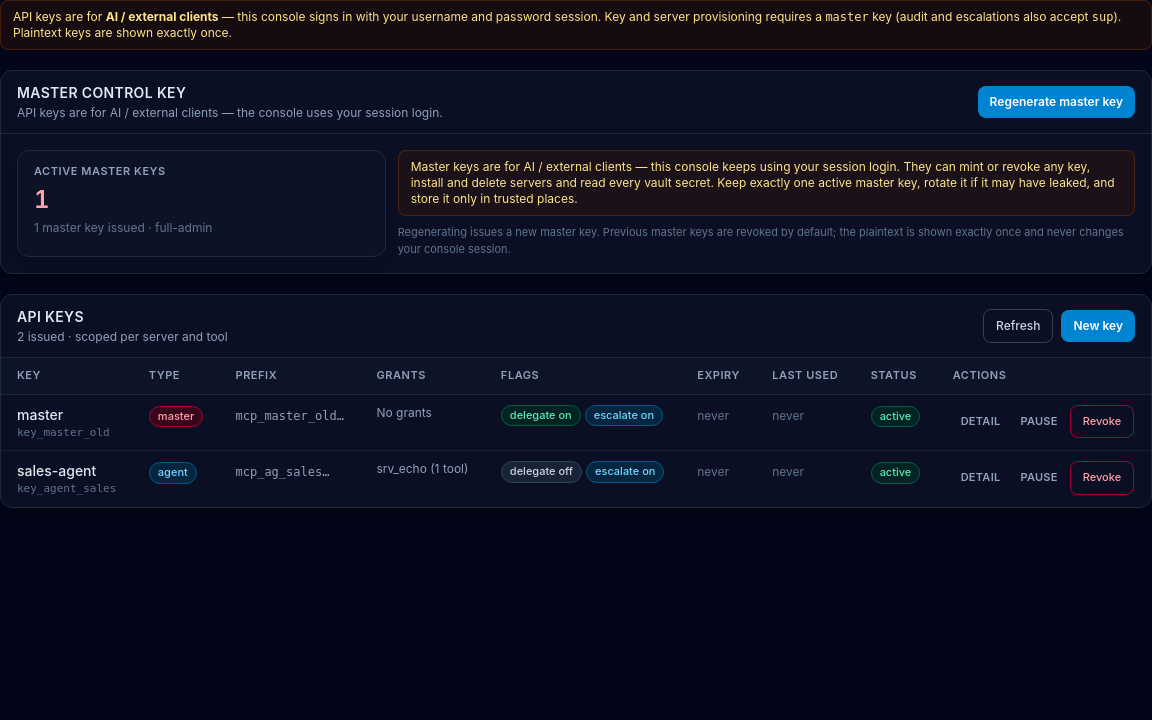
Test: RbacPage — master control key › regenerates, adopts the new key, reveals it once and copies it
Check: the button "sales-agent" is shown, box [17, 461, 96, 481]
What coordinates should you click on to do the following:
click the button "Regenerate master key"
I would click on:
 (1056, 102)
Its box is [978, 86, 1135, 118].
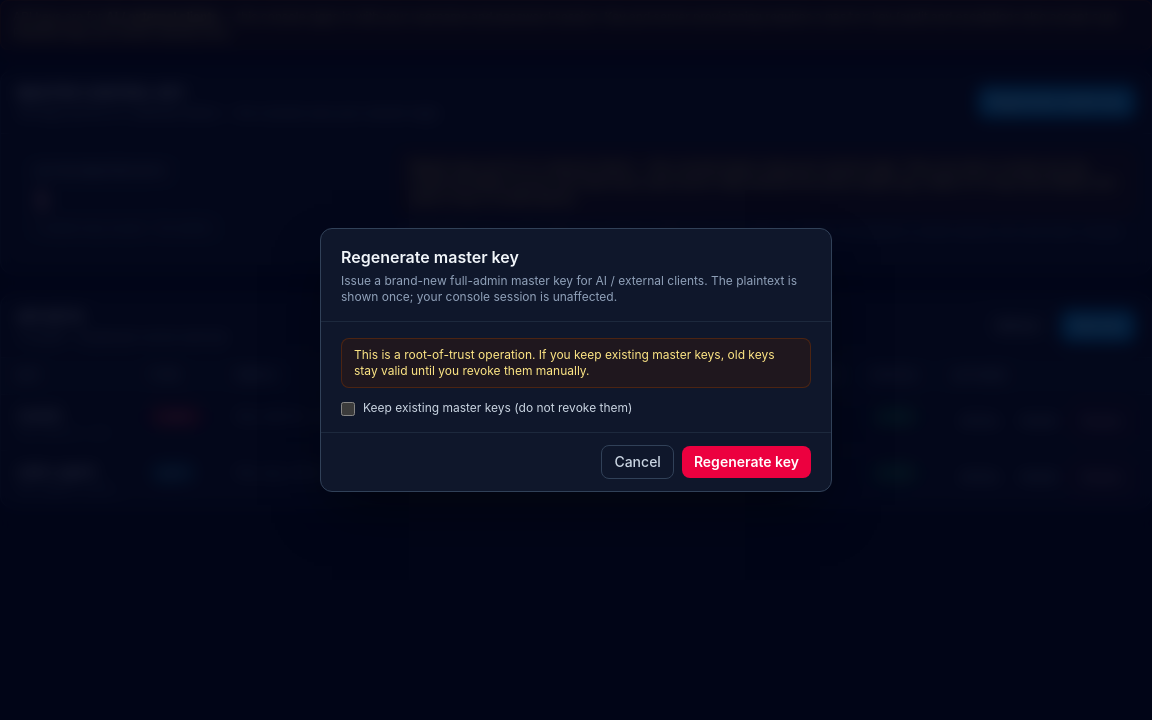
Check: the checkbox labelled "Keep existing master keys (do not revoke them)" is not checked, box [341, 402, 355, 416]
What coordinates should you click on to do the following:
click the button "Regenerate key"
I would click on:
 (746, 462)
Its box is [682, 446, 811, 478].
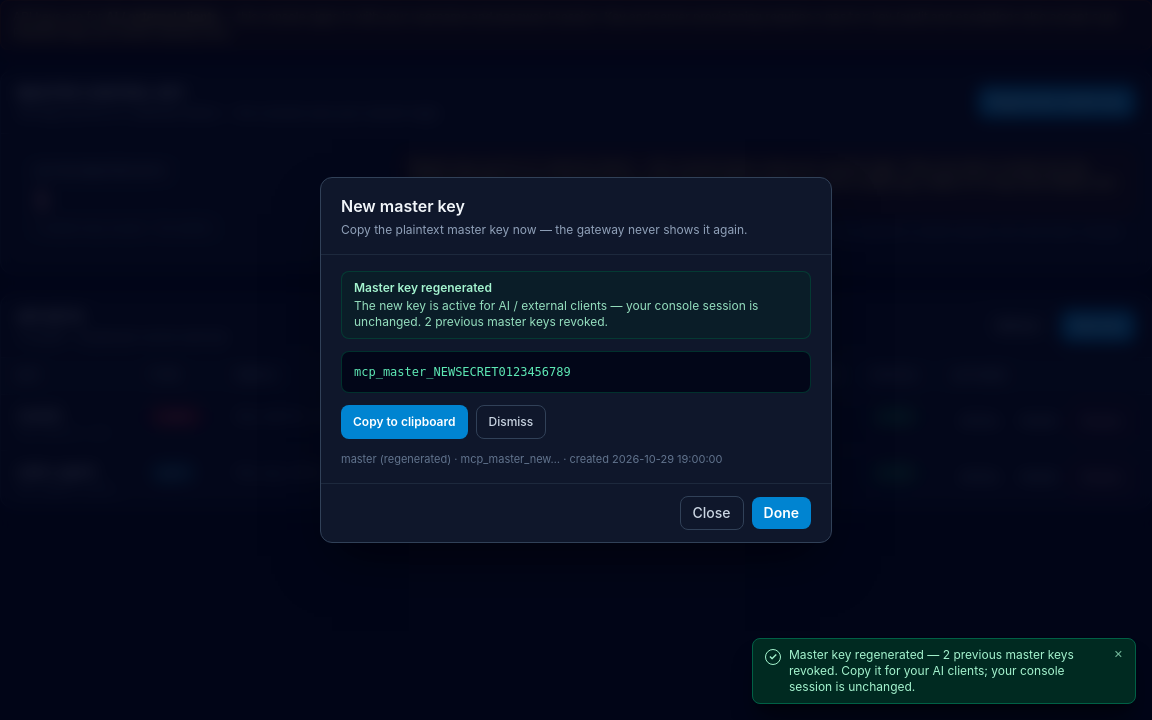
Check: the text "mcp_master_NEWSECRET0123456789" is shown, box [341, 351, 811, 393]
Check: the text "console session is unchanged" is shown, box [354, 298, 758, 329]
Check: the text "2 previous master keys revoked" is shown, box [354, 298, 798, 330]
What coordinates should you click on to do the following:
click the button "Copy to clipboard"
I would click on:
 (404, 422)
Its box is [341, 405, 468, 439].
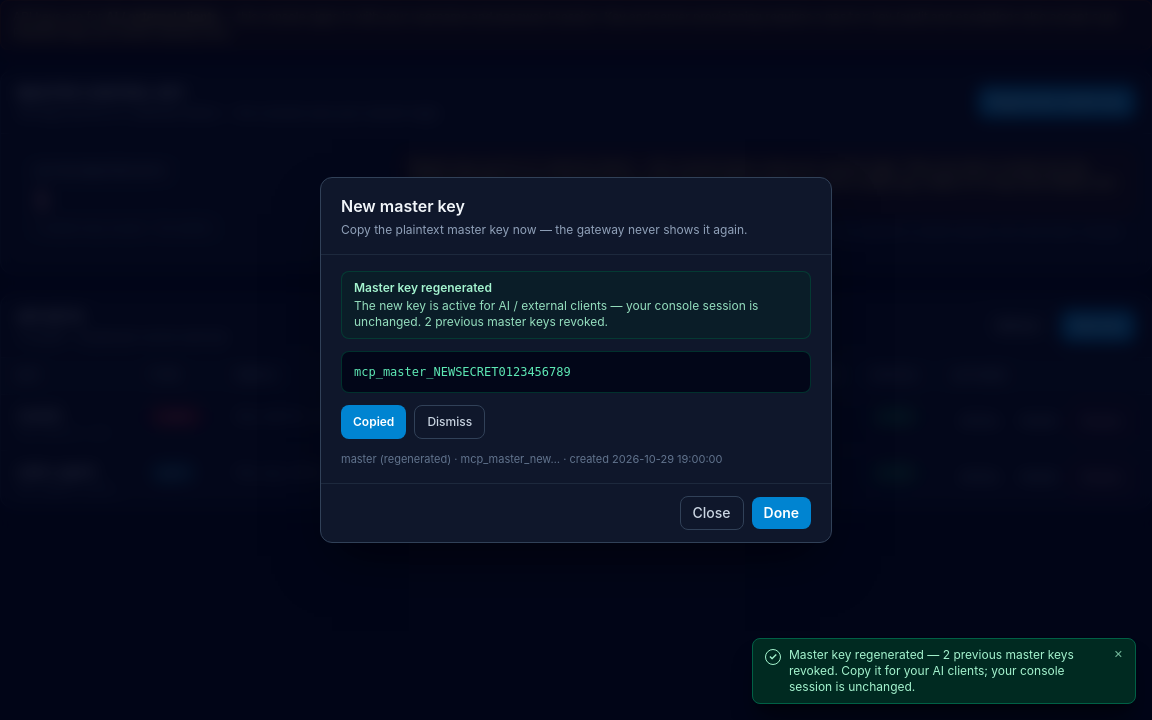
Check: the button "Copied" is shown, box [341, 405, 406, 439]
What coordinates should you click on to do the following:
click the button "Dismiss"
I would click on:
 (450, 422)
Its box is [414, 405, 485, 439].
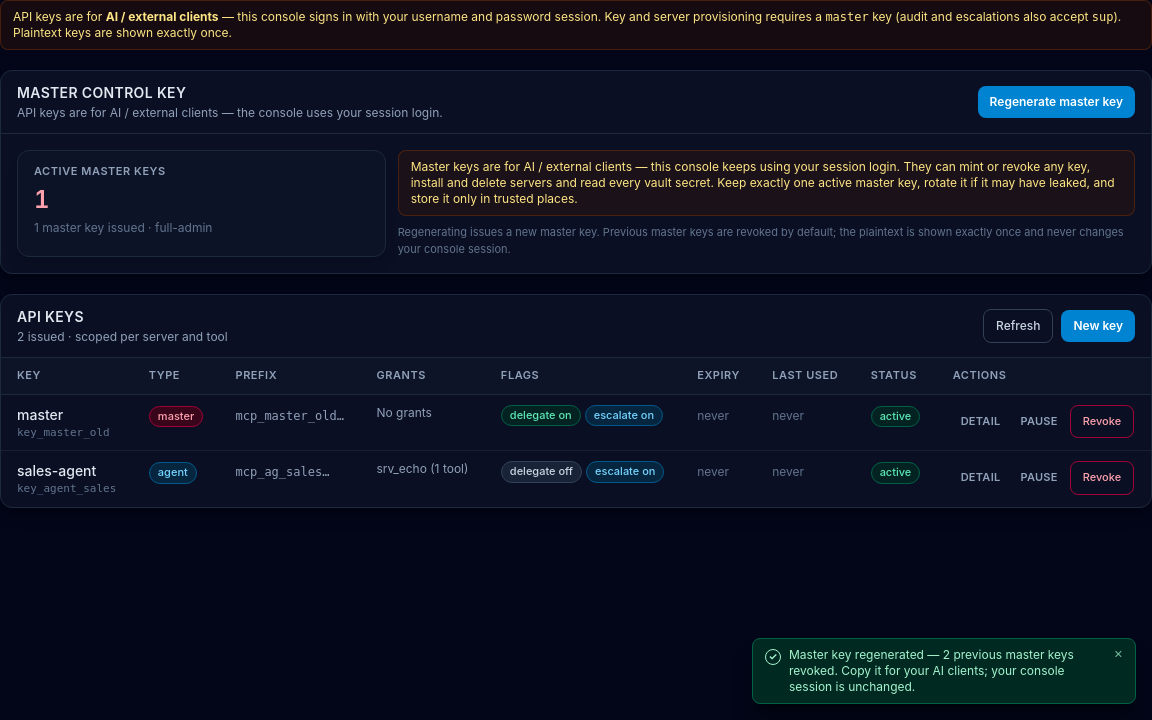
Check: the text "mcp_master_NEWSECRET0123456789" is gone
